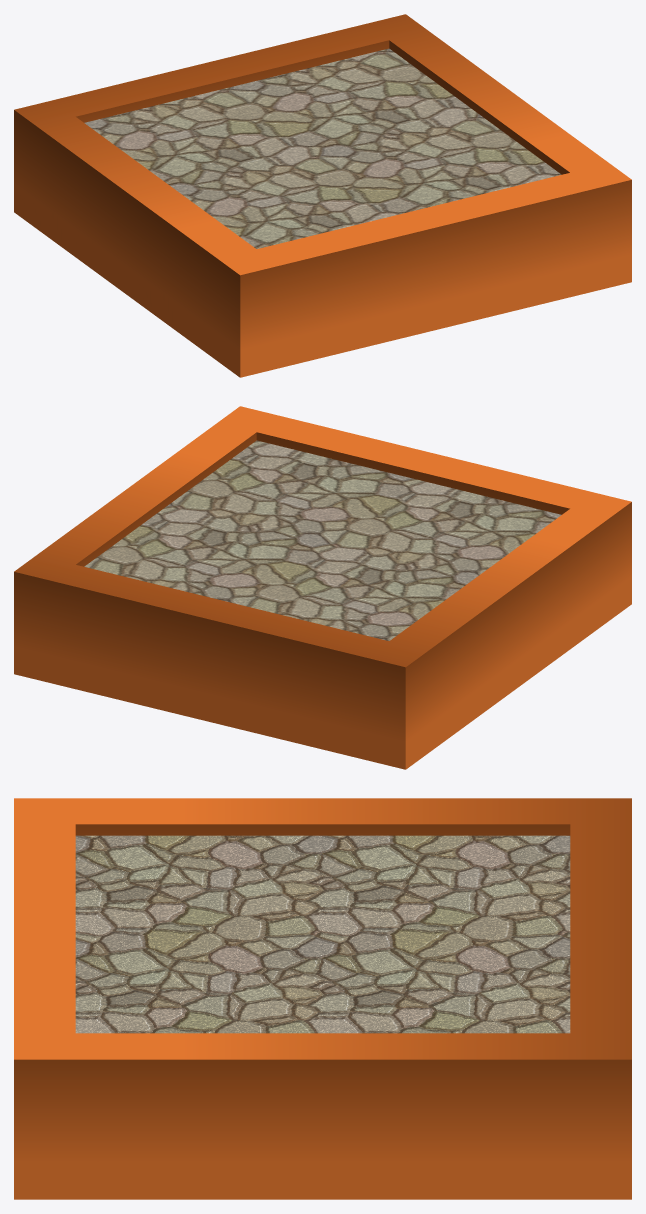
File: TILE_007_Shop.fbx
The picture shows the model from 3 angles, top to bottom: view 1: azimuth 30°, elevation 25°; view 2: azimuth 150°, elevation 25°; view 3: azimuth 270°, elevation 25°; orthographic projection. The views are drawn at different scales.
Parts seen in each view (by area): view 1: TILE_001_Shop; view 2: TILE_001_Shop; view 3: TILE_001_Shop.
Boxes of the visible parts, x1,y1,x2,y2 form: TILE_001_Shop: (14,14,631,377); TILE_001_Shop: (14,406,631,769); TILE_001_Shop: (14,798,631,1199).
Size of the model in its own units: 98.43 by 24.61 by 98.43.
